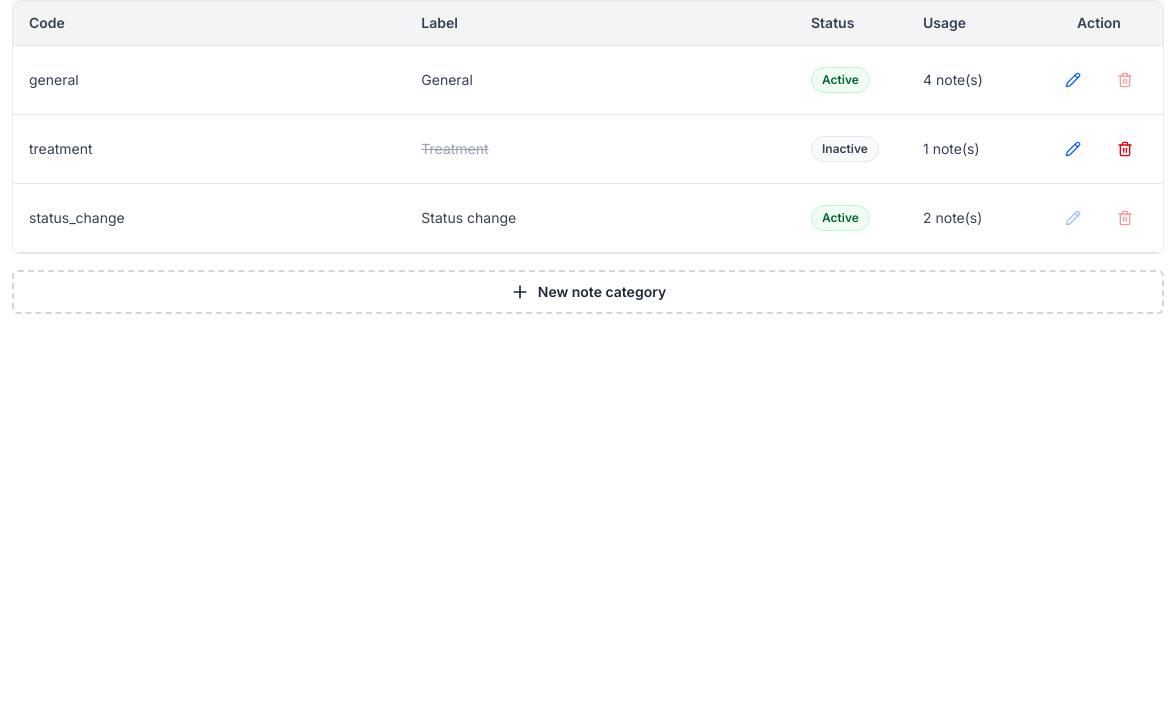
it: NoteCategoriesManagementList › shows validation error for invalid category code
Click the button "New note category" at point(588, 292), box [12,270,1164,314]
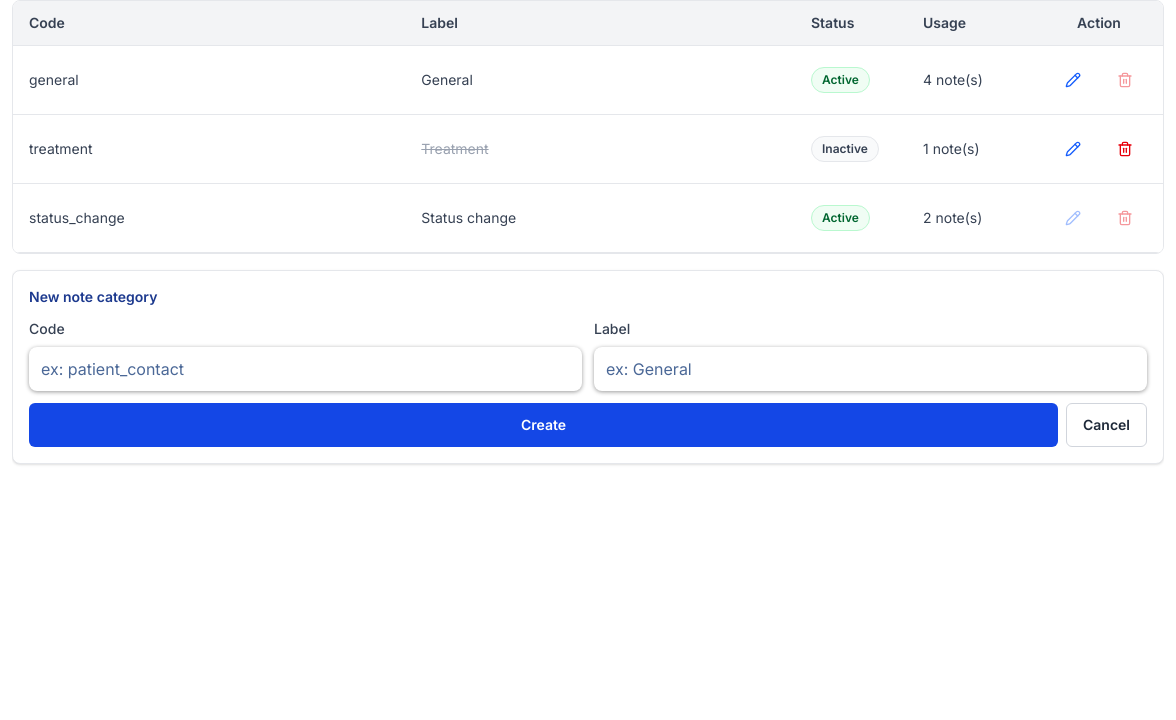
Type "status$change" into the field with placeholder "ex: patient_contact" at point(306, 369), box [29,347,582,391]
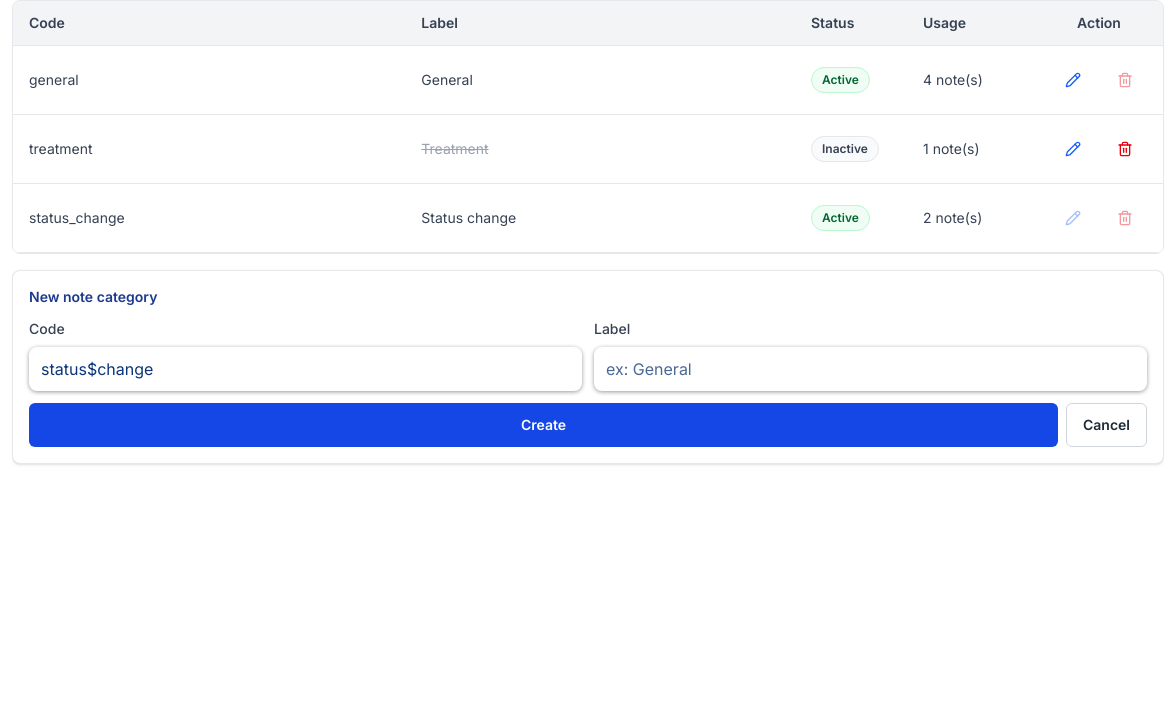
Type "Custom" into the field with placeholder "ex: General" at point(870, 369), box [594,347,1147,391]
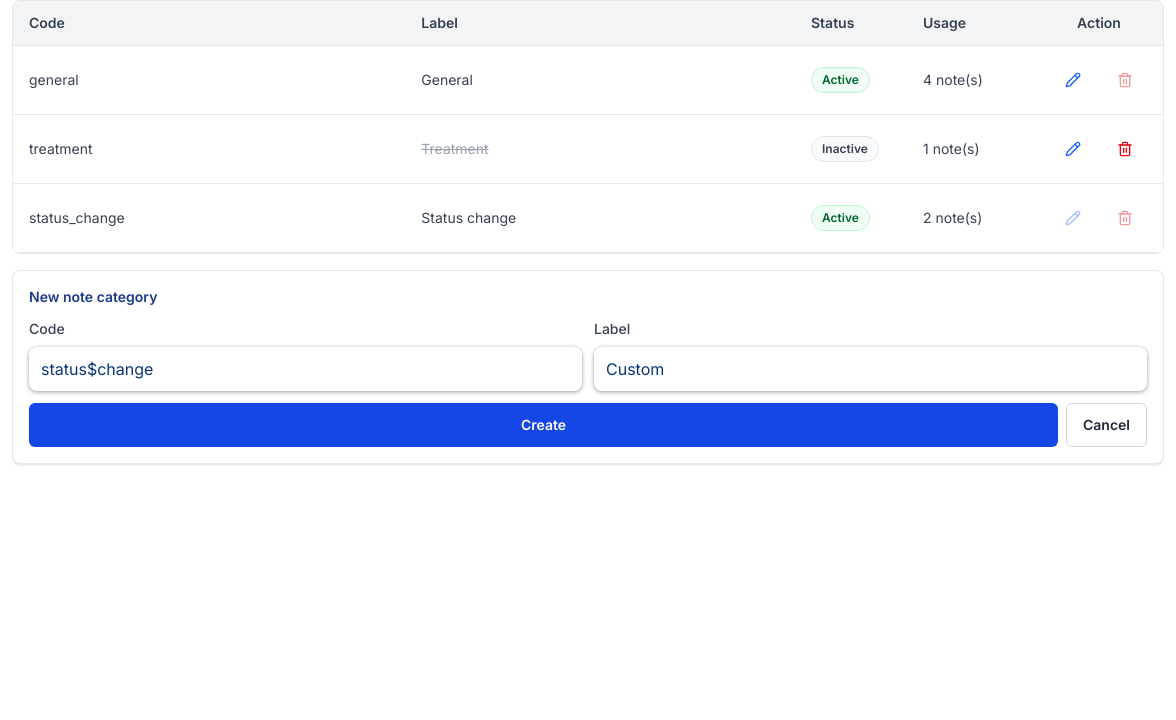
Click the button "Create" at point(544, 425), box [29,403,1058,447]
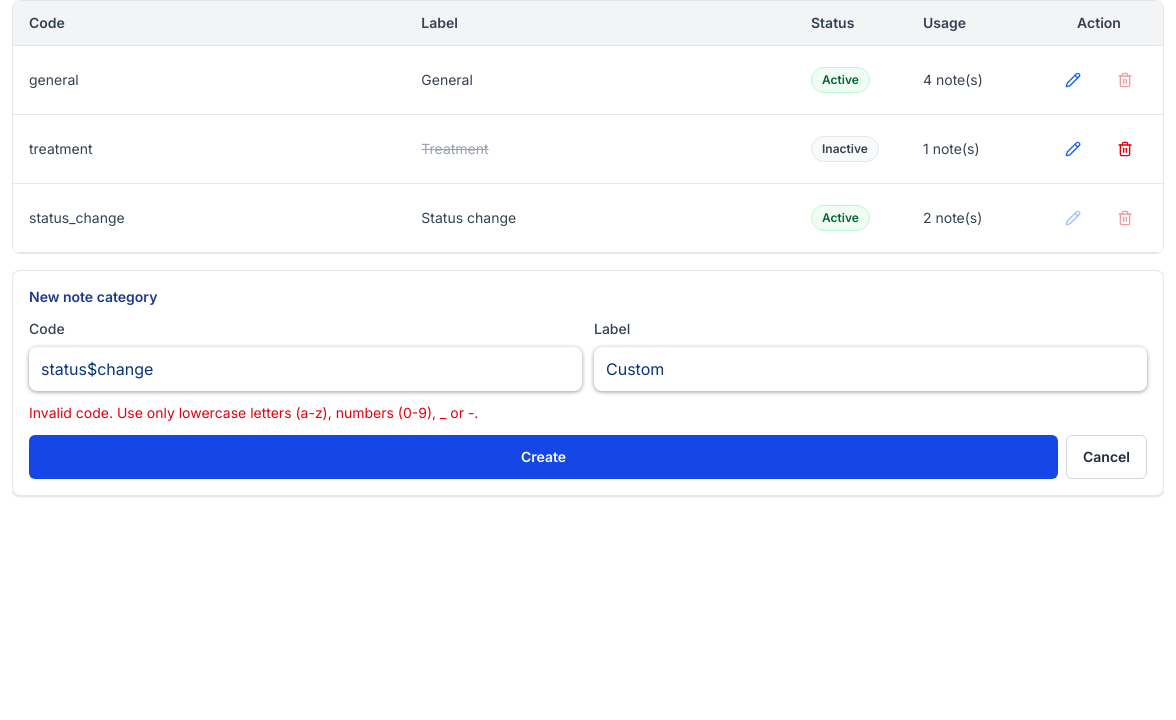
Expected: the text "Invalid code. Use only lowercase letters (a-z), numbers (0-9), _ or -." is shown, [29,404,478,421]
